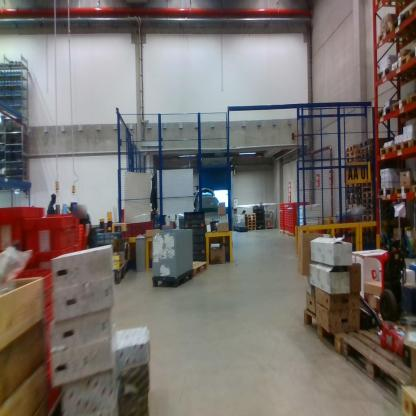pallet: (345, 316, 416, 403), (303, 300, 364, 349), (377, 19, 414, 47), (375, 61, 409, 84), (182, 257, 207, 285), (391, 49, 415, 77), (396, 381, 414, 414), (111, 264, 133, 291), (397, 4, 415, 33), (107, 219, 132, 238), (377, 102, 403, 120), (378, 141, 398, 160), (392, 136, 411, 155), (393, 97, 411, 117), (376, 184, 392, 198), (396, 183, 412, 195), (408, 87, 415, 108), (411, 131, 415, 153), (413, 182, 416, 199)
pallet_truck: (389, 194, 415, 257), (373, 190, 395, 254), (360, 133, 386, 151), (360, 152, 379, 161), (343, 142, 359, 152), (345, 155, 362, 164), (344, 179, 359, 189), (345, 194, 362, 202), (344, 149, 363, 156), (360, 144, 372, 154), (361, 191, 375, 199), (362, 214, 375, 221), (360, 204, 375, 210), (344, 189, 362, 194), (361, 185, 373, 192), (346, 199, 359, 205), (360, 210, 375, 215), (361, 199, 375, 204), (244, 213, 256, 217), (245, 216, 256, 220), (278, 229, 284, 235), (244, 220, 256, 223), (245, 222, 257, 225), (248, 227, 257, 231), (288, 232, 295, 237), (286, 231, 290, 236), (283, 229, 286, 235), (248, 225, 257, 227)
small_load_carrier: (19, 206, 83, 256), (1, 198, 43, 252), (8, 268, 66, 298), (44, 300, 59, 323), (287, 201, 303, 206), (287, 226, 295, 235), (279, 223, 284, 230), (287, 206, 296, 209), (287, 211, 295, 214), (287, 214, 295, 217), (287, 222, 295, 225), (287, 219, 294, 222), (284, 225, 289, 229), (287, 209, 296, 211), (279, 202, 284, 205), (287, 217, 294, 219), (284, 222, 288, 225), (284, 219, 288, 222), (284, 215, 288, 218), (279, 207, 283, 210), (279, 210, 283, 213), (284, 208, 287, 211), (280, 213, 283, 216), (280, 216, 283, 219), (284, 217, 288, 219), (284, 213, 288, 215), (284, 206, 288, 208), (279, 205, 283, 207), (280, 221, 284, 223), (284, 211, 287, 213), (280, 219, 283, 221)
stillage: (260, 209, 276, 231)
